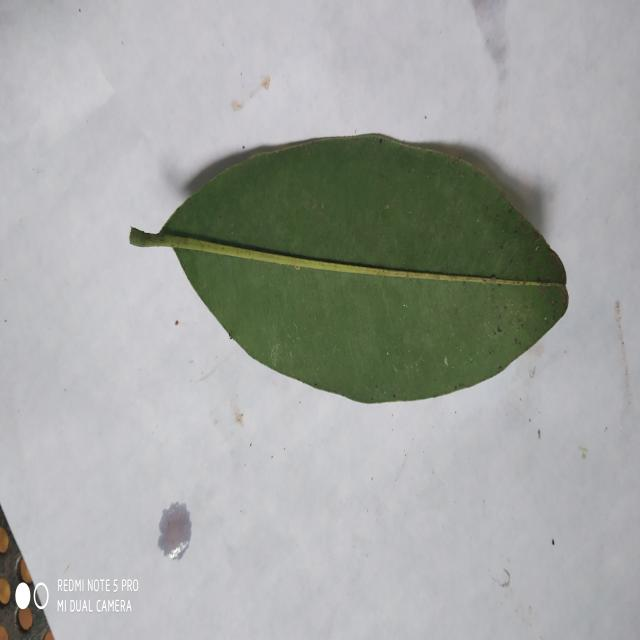sapota: (130, 133, 568, 402)
